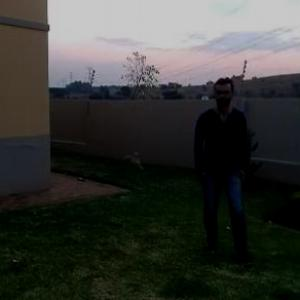follow: (187, 72, 236, 245)
